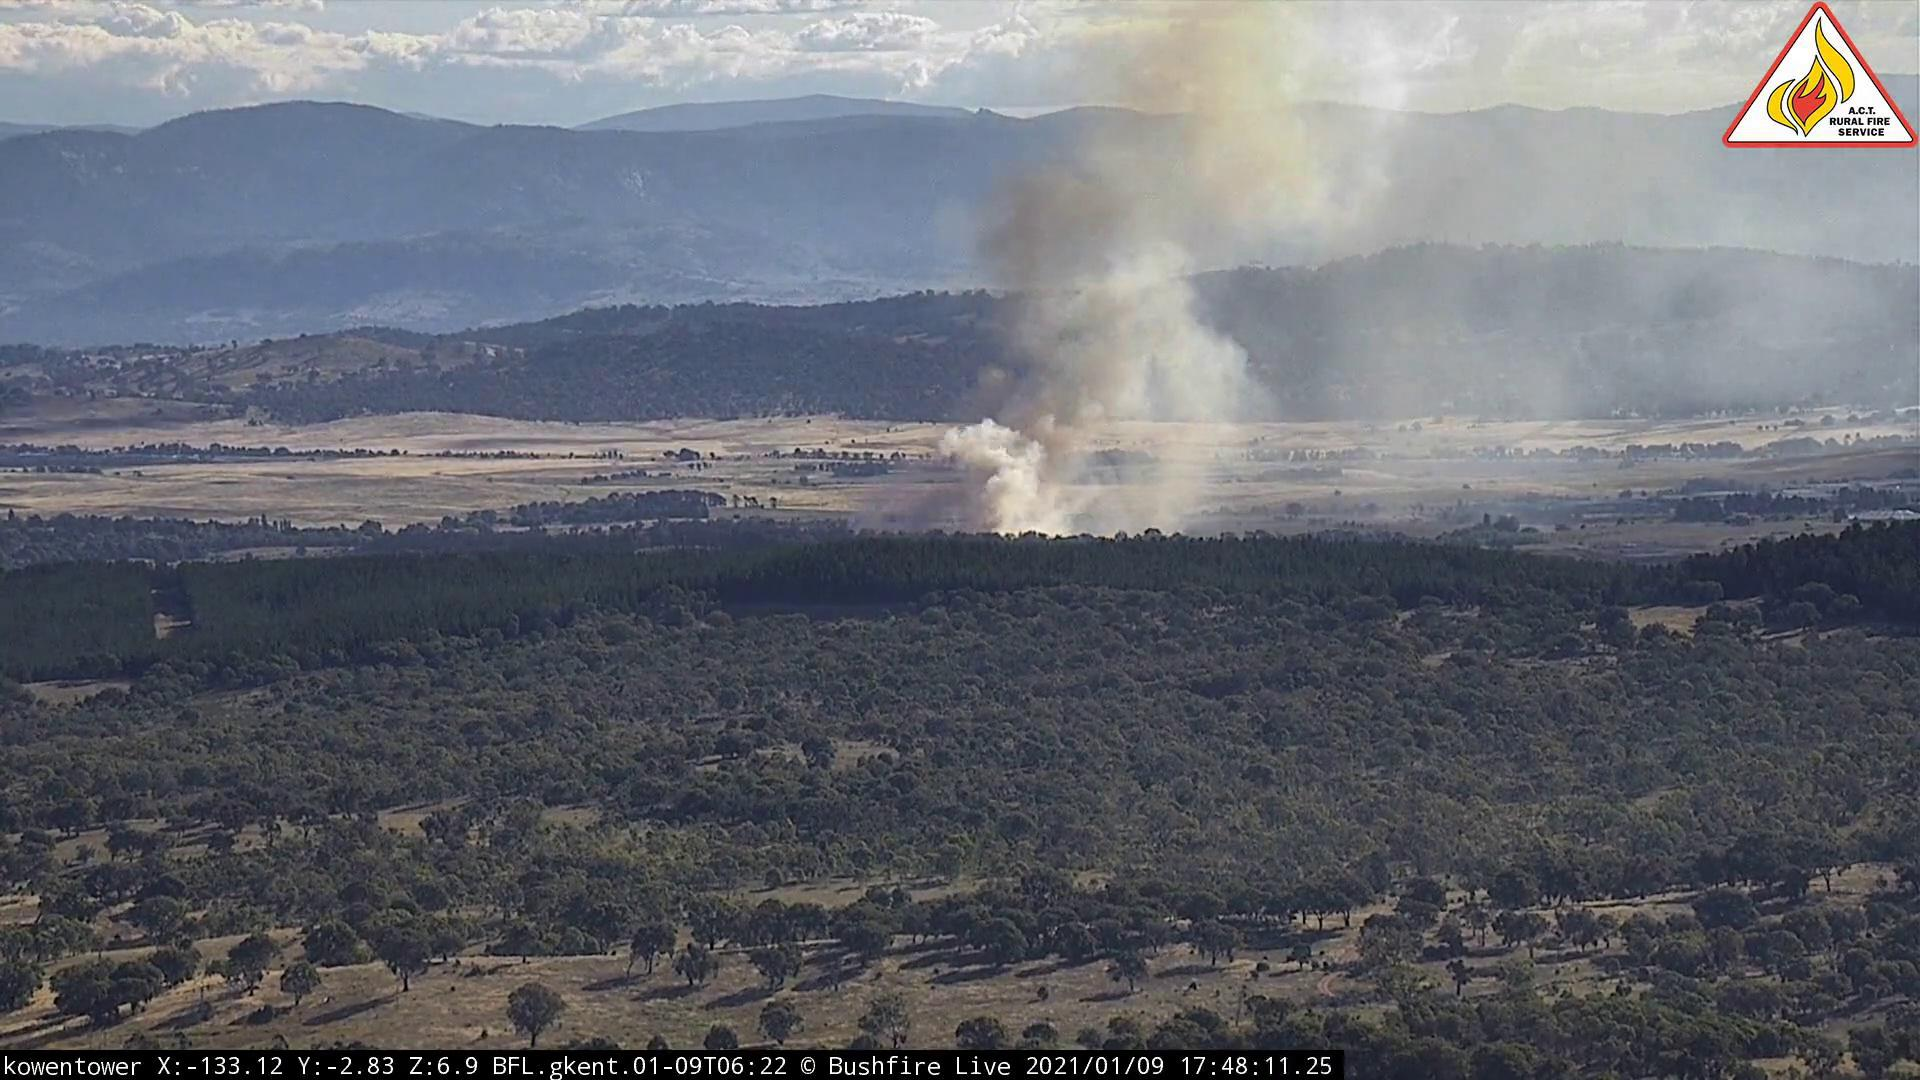Smoke: (858, 3, 1717, 545)
